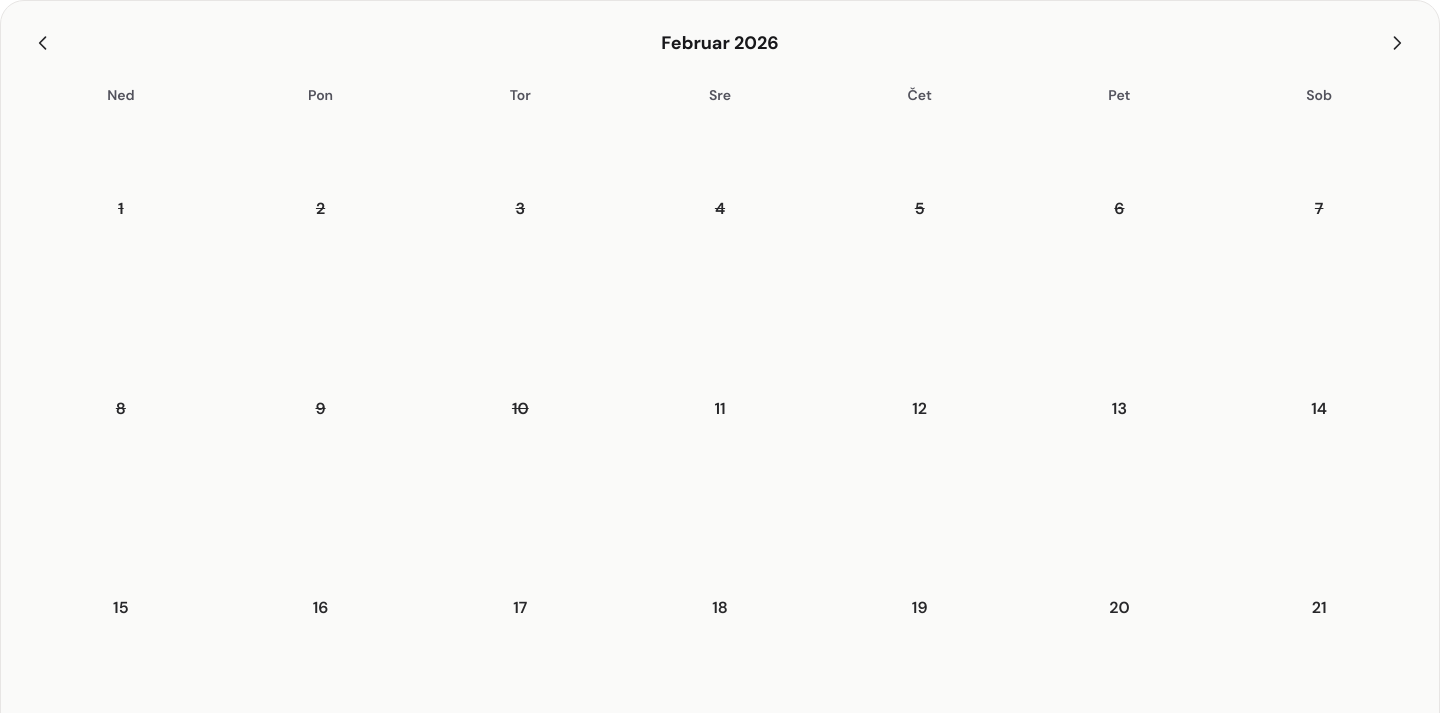
Test: Calendar › navigates to next month
Click the button named "Naslednji mesec" at coordinates (1397, 43), box [1379,25,1415,61]
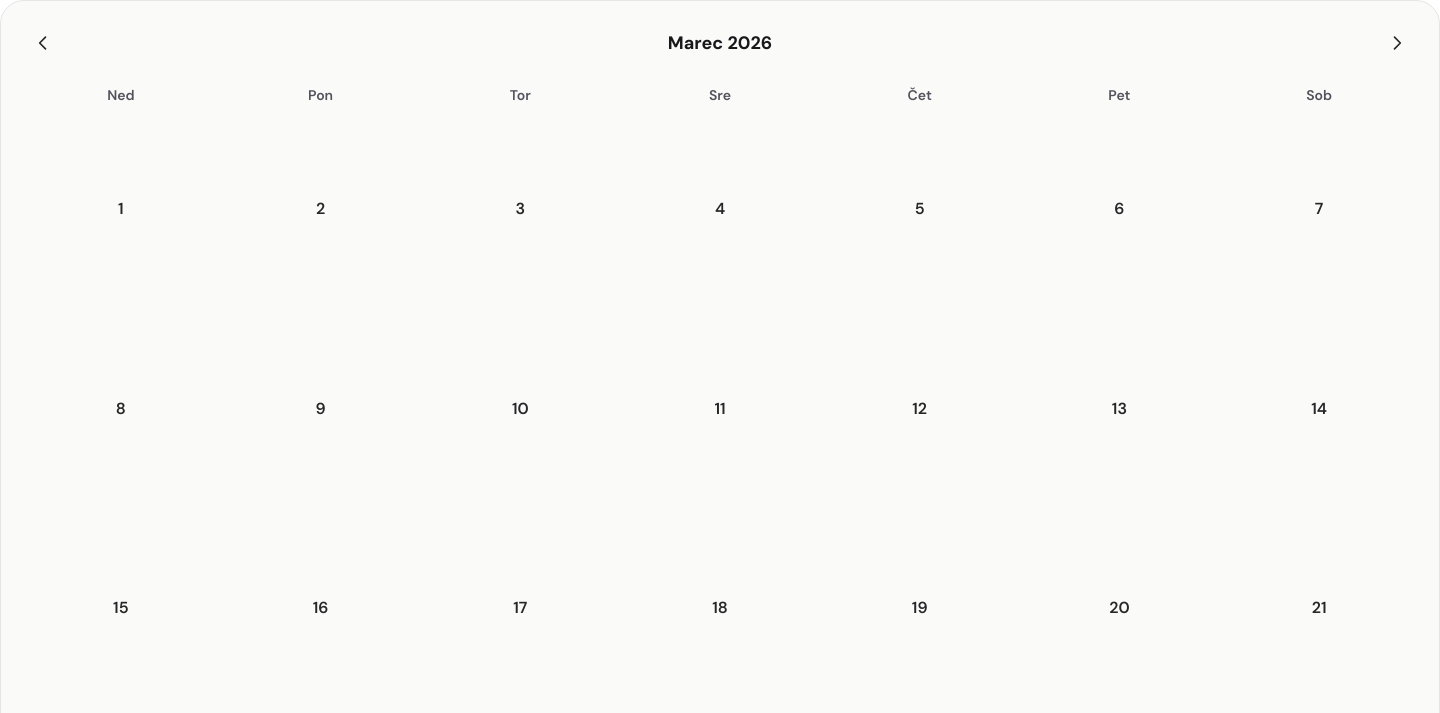
expect the heading "Marec 2026" is shown: met, box [668,29,772,57]
